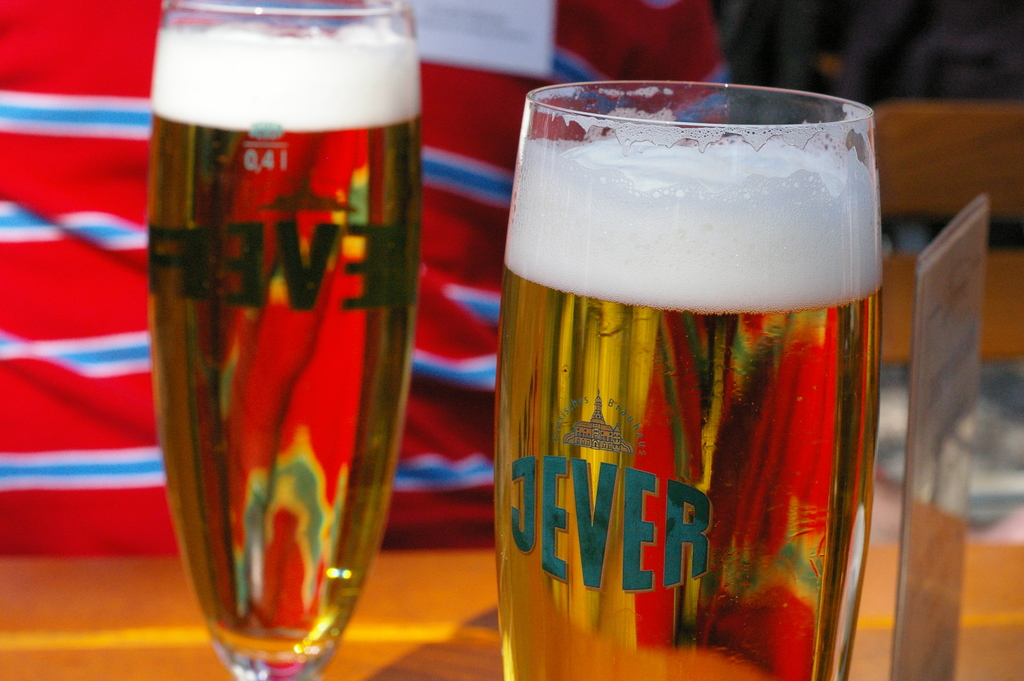Beer: (478, 64, 895, 680), (138, 0, 412, 680)
